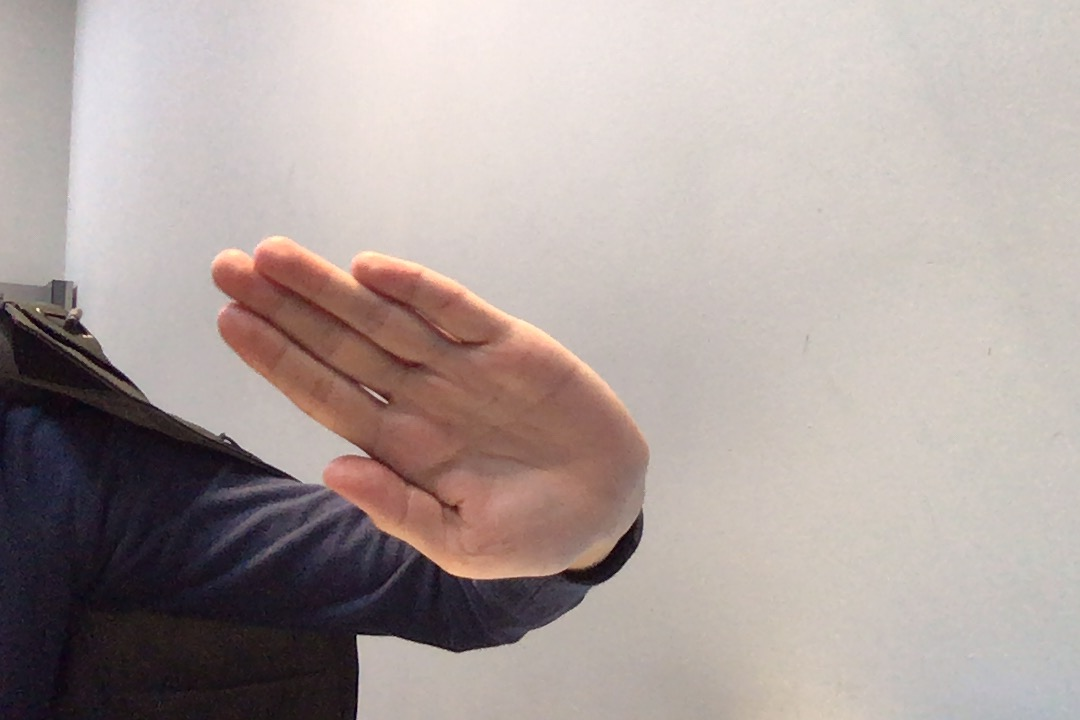palmhand: (192, 217, 673, 596)
